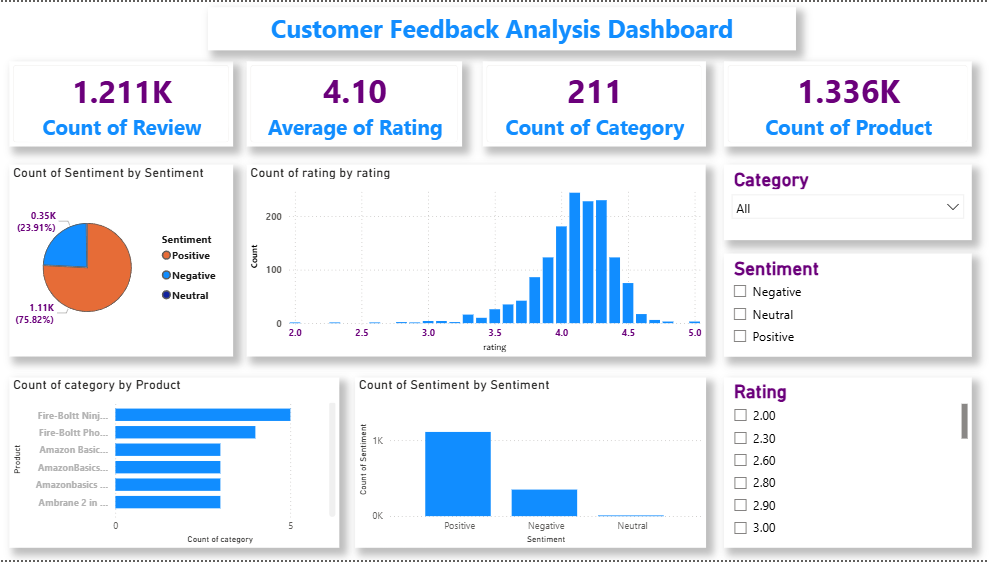

This screenshot's page, from the dashboard's own definition file:
{"tool":"powerbi","page":{"name":"Page 1","canvas":[1280,720],"ordinal":0},"visuals":[{"type":"pieChart","fields":{"Category":["final_reviews.Sentiment"],"Y":["CountNonNull(final_reviews.Sentiment)"]},"box":[13,210,289,248],"z":0},{"type":"clusteredBarChart","fields":{"Category":["final_reviews.Product"],"Y":["CountNonNull(final_reviews.category)"]},"box":[13.3,485,426.7,220],"z":1000},{"type":"clusteredColumnChart","fields":{"Category":["final_reviews.Sentiment"],"Y":["CountNonNull(final_reviews.Sentiment)"]},"box":[460,485,453.3,220],"z":2000},{"type":"clusteredColumnChart","fields":{"Category":["final_reviews.rating"],"Y":["CountNonNull(final_reviews.rating)"]},"box":[320,210,593,248],"z":3000},{"type":"cardVisual","fields":{"Data":["Count(final_reviews.Review)"]},"box":[13,77,289,110],"z":4000},{"type":"textbox","box":[270,7,760,56],"z":5000},{"type":"cardVisual","fields":{"Data":["Avg(final_reviews.rating)"]},"box":[320,77,278,110],"z":6000},{"type":"cardVisual","fields":{"Data":["Count(final_reviews.category)"]},"box":[625,77,288,110],"z":7000},{"type":"cardVisual","fields":{"Data":["Count(final_reviews.Product)"]},"box":[937,77,320,110],"z":7001},{"type":"slicer","fields":{"Values":["final_reviews.category"]},"box":[937,210,320,98],"z":7002},{"type":"slicer","fields":{"Values":["final_reviews.Sentiment"]},"box":[937,325,320,133],"z":7003},{"type":"slicer","fields":{"Values":["final_reviews.rating"]},"box":[936.7,485,320,220],"z":7004}]}

Visuals, with their boxes in screenshot pixels (x1, y1, x2, y2), scaled from the page's 1280x720 canvas onto the 989x562 screenshot:
pieChart - final_reviews.Sentiment x CountNonNull(final_reviews.Sentiment): detection(10, 164, 233, 357)
clusteredBarChart - final_reviews.Product x CountNonNull(final_reviews.category): detection(10, 379, 340, 550)
clusteredColumnChart - final_reviews.Sentiment x CountNonNull(final_reviews.Sentiment): detection(355, 379, 706, 550)
clusteredColumnChart - final_reviews.rating x CountNonNull(final_reviews.rating): detection(247, 164, 705, 357)
cardVisual - Count(final_reviews.Review): detection(10, 60, 233, 146)
textbox: detection(209, 5, 796, 49)
cardVisual - Avg(final_reviews.rating): detection(247, 60, 462, 146)
cardVisual - Count(final_reviews.category): detection(483, 60, 705, 146)
cardVisual - Count(final_reviews.Product): detection(724, 60, 971, 146)
slicer - final_reviews.category: detection(724, 164, 971, 240)
slicer - final_reviews.Sentiment: detection(724, 254, 971, 357)
slicer - final_reviews.rating: detection(724, 379, 971, 550)
